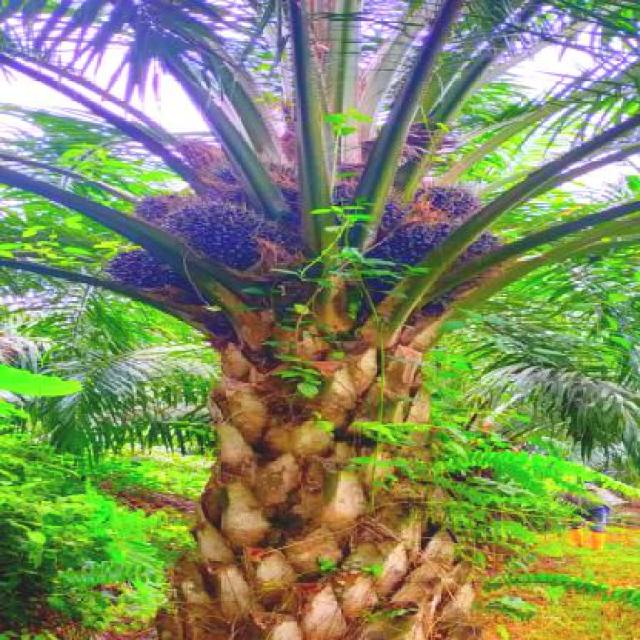palm-oil: (364, 227, 501, 299), (184, 202, 293, 290), (212, 161, 324, 235), (98, 243, 187, 310), (409, 180, 481, 236)
